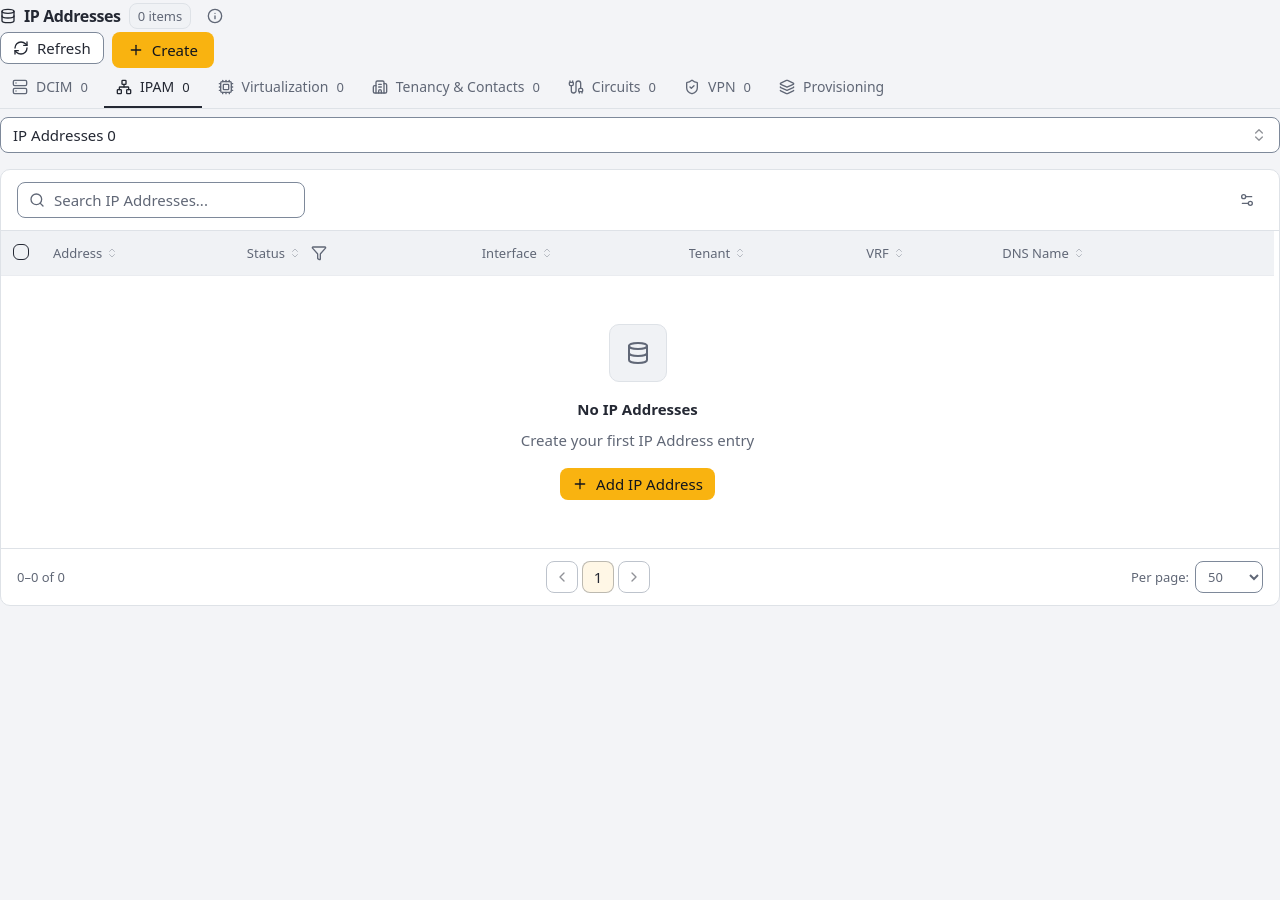
Scenario: InventoryResources column filters › keeps the IP-address identity and status columns fixed in the picker
Click the button named "columns": (1247, 200) [1231, 184, 1263, 216]
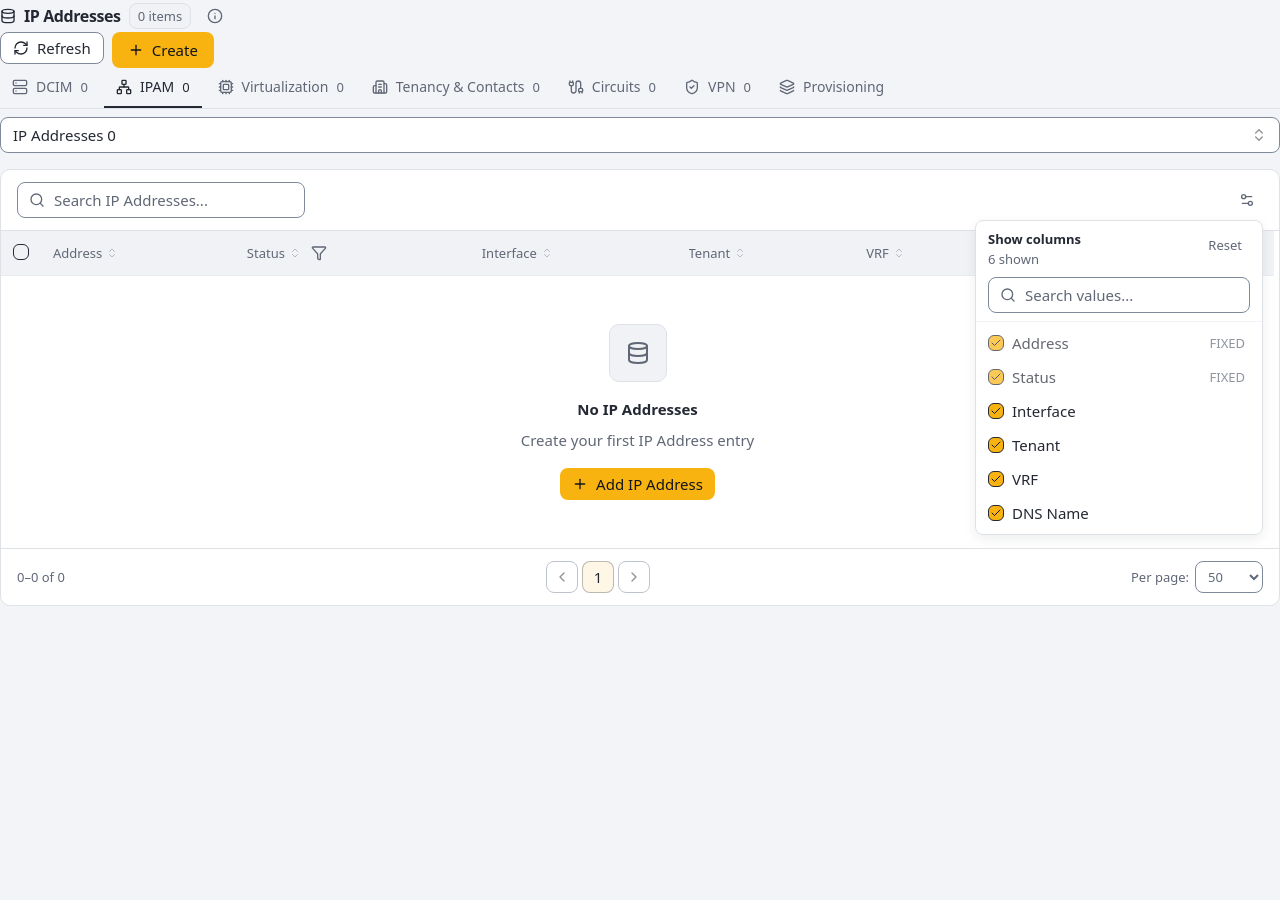
Expected: the menu item "Address Fixed" is disabled, [980, 326, 1253, 360]
Expected: the menu item "Status Fixed" is disabled, [980, 360, 1253, 394]
